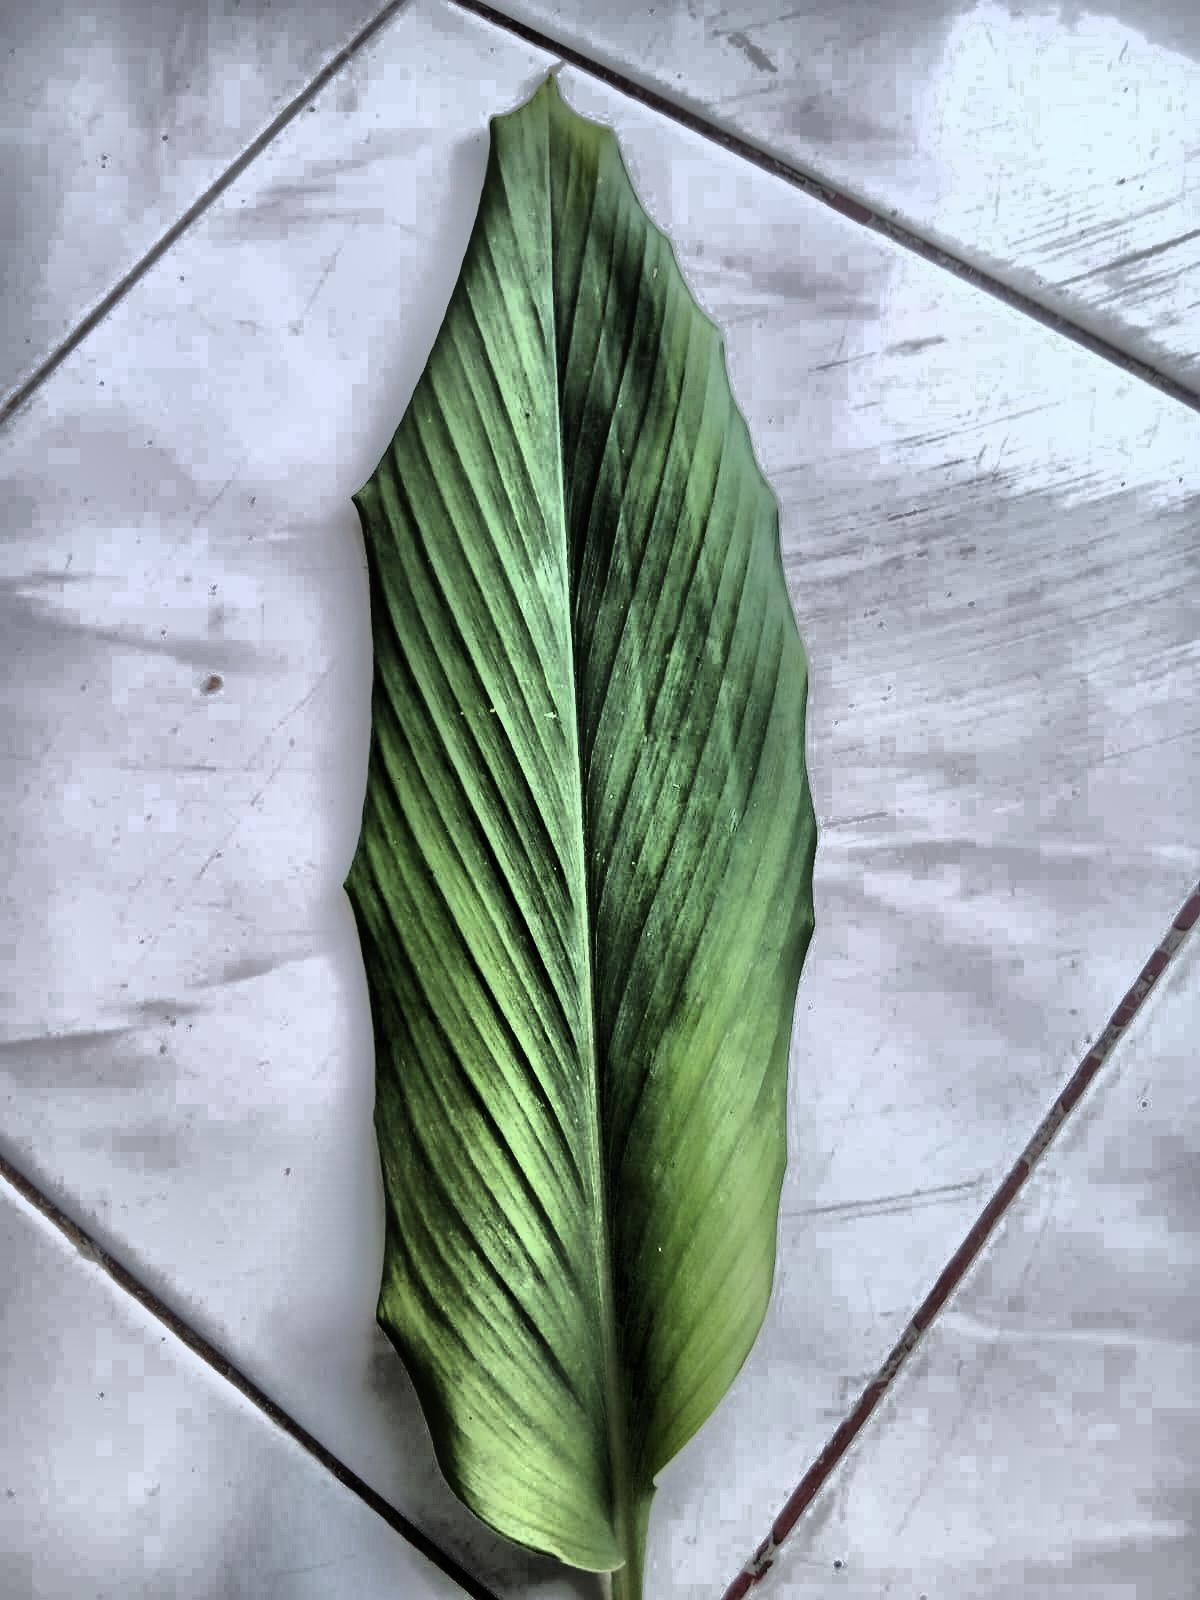daun kunyit: (345, 81, 816, 1599)
